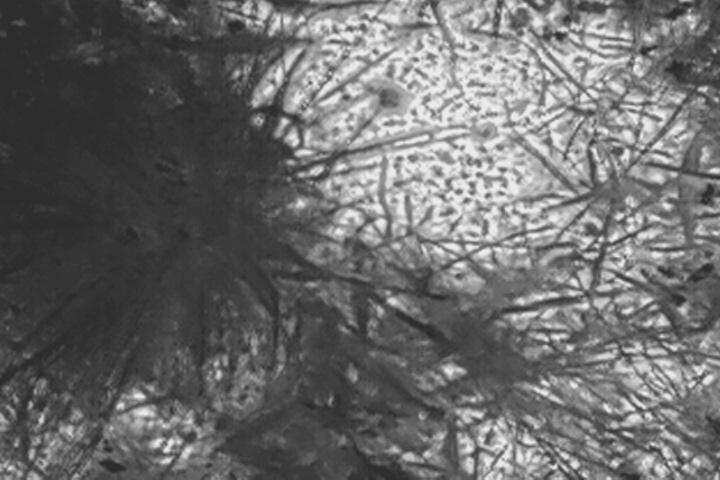landmine: (225, 0, 609, 254)
